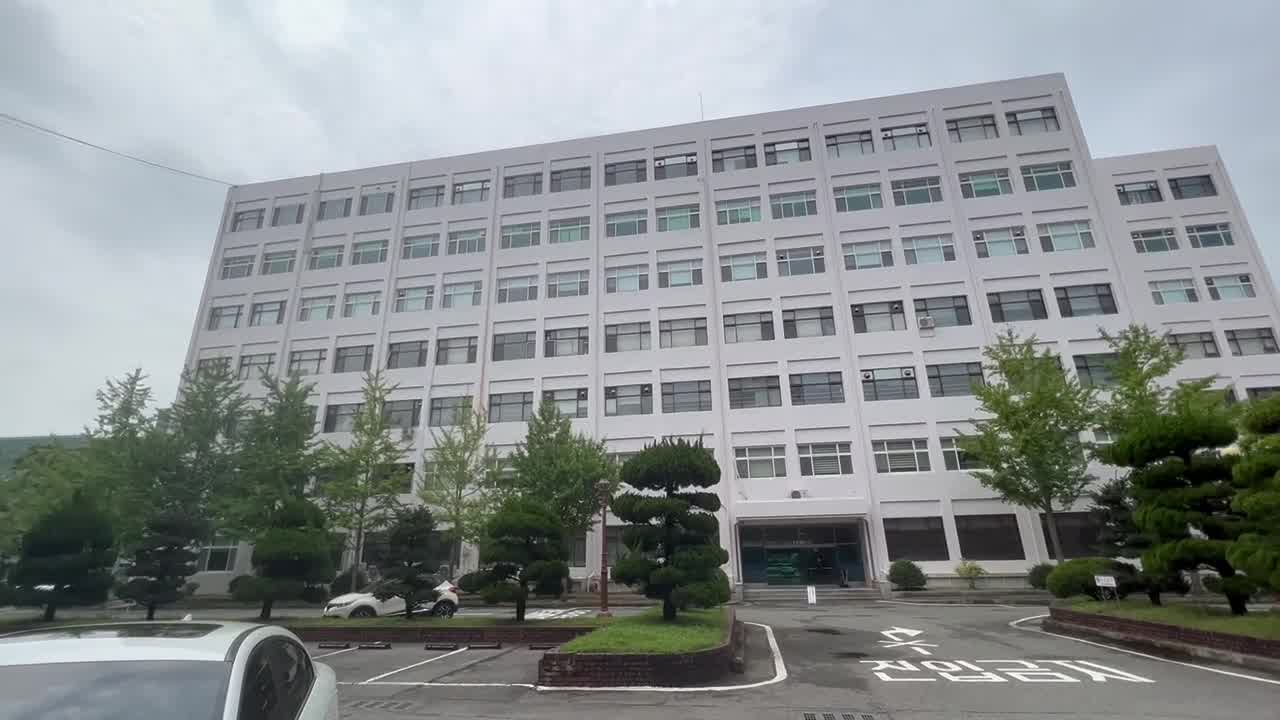low: (200, 128, 1114, 359)
